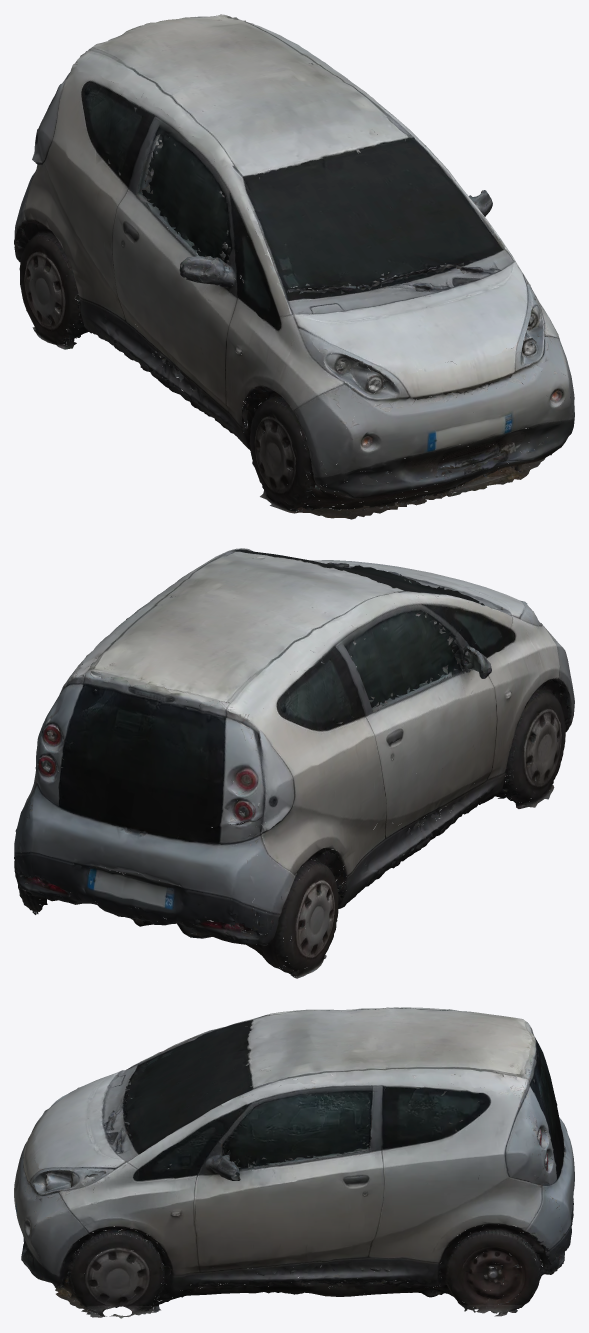
The model's file is autolib-3dst51-f4eafb.glb.
The picture shows the model from 3 angles, top to bottom: view 1: azimuth 30°, elevation 25°; view 2: azimuth 150°, elevation 25°; view 3: azimuth 270°, elevation 25°; orthographic projection. The views are drawn at different scales.
Parts seen in each view (by area): view 1: body; view 2: body; view 3: body.
Part boxes in pixels (box(x1,y1,x2,y2)): body: box(14, 14, 574, 519); body: box(14, 548, 574, 978); body: box(14, 1007, 574, 1318).
Size of the model in its own units: 2.53 by 2.18 by 4.8.
Materials: 1 (1 with a texture image).
